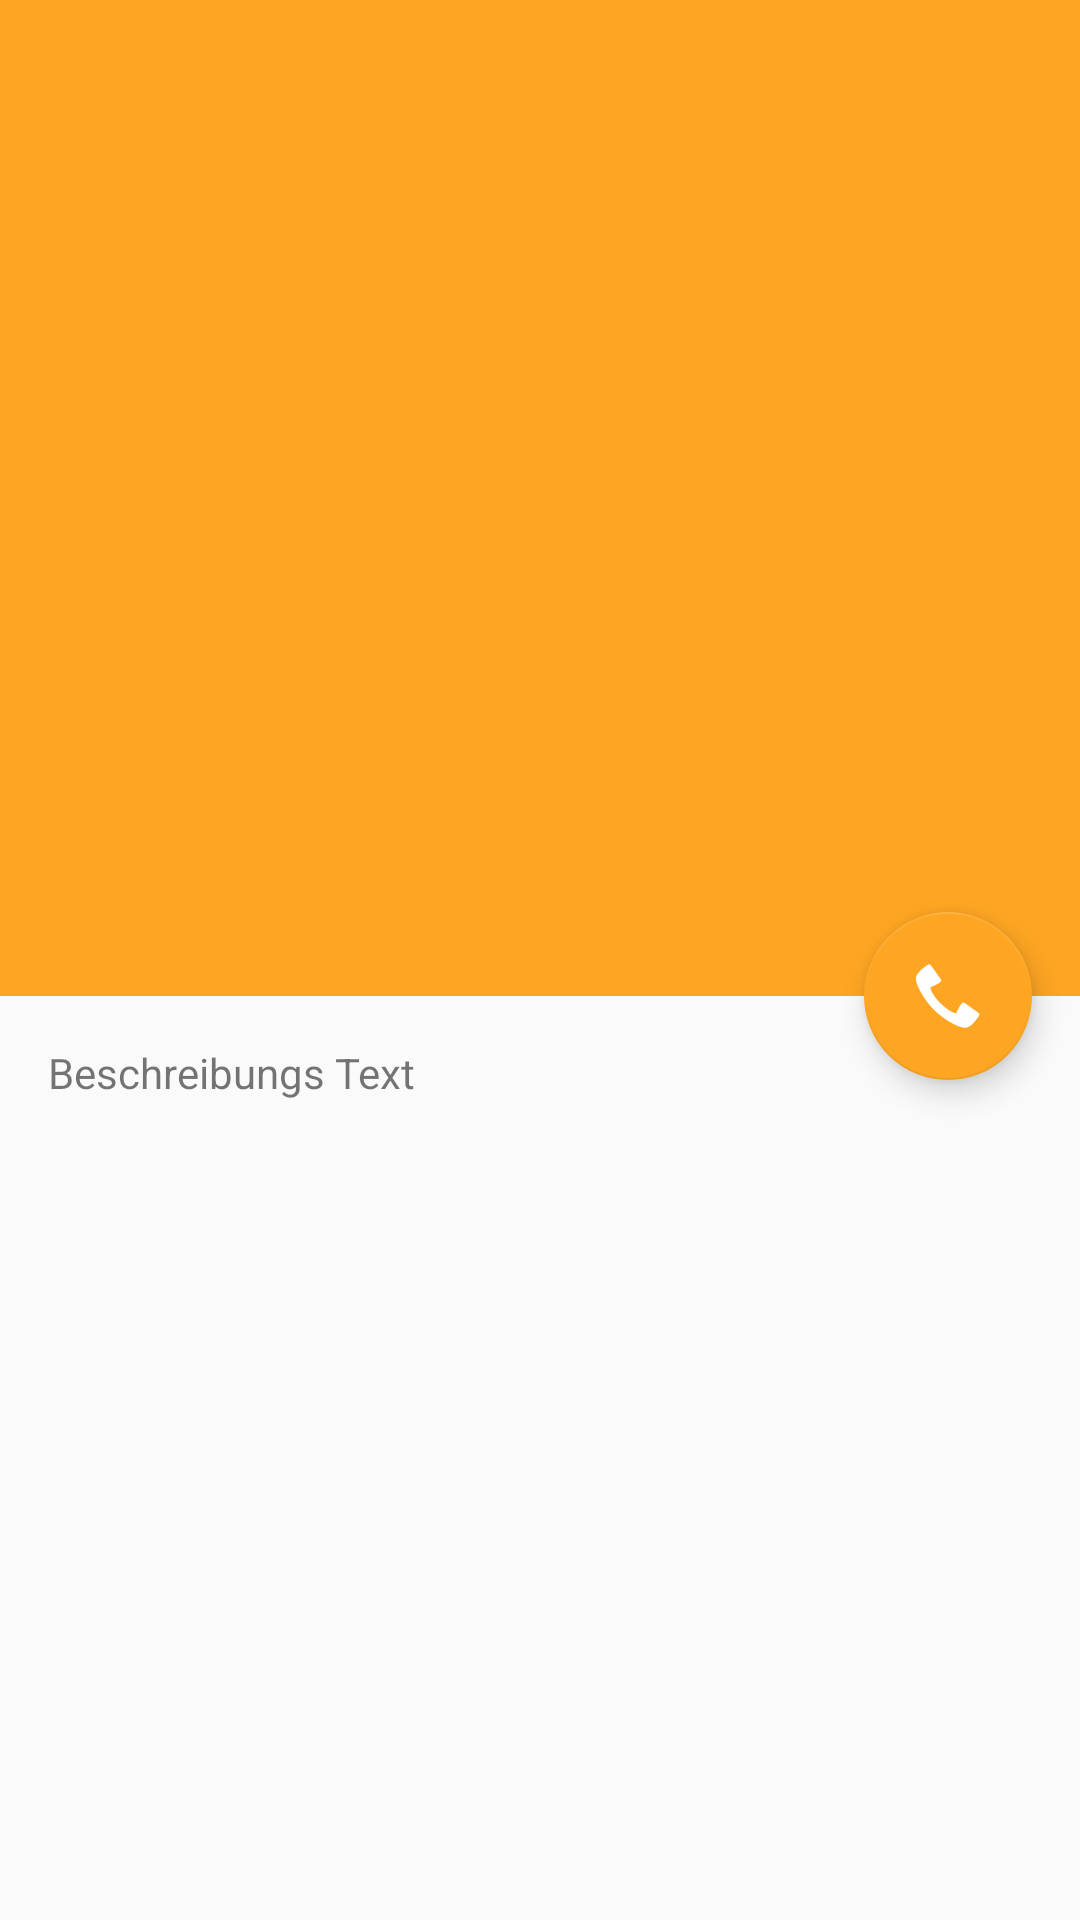

Screen size 1080 x 1920. Icon name, then its center in pixels as (x,y):
phone call: (948,996)
